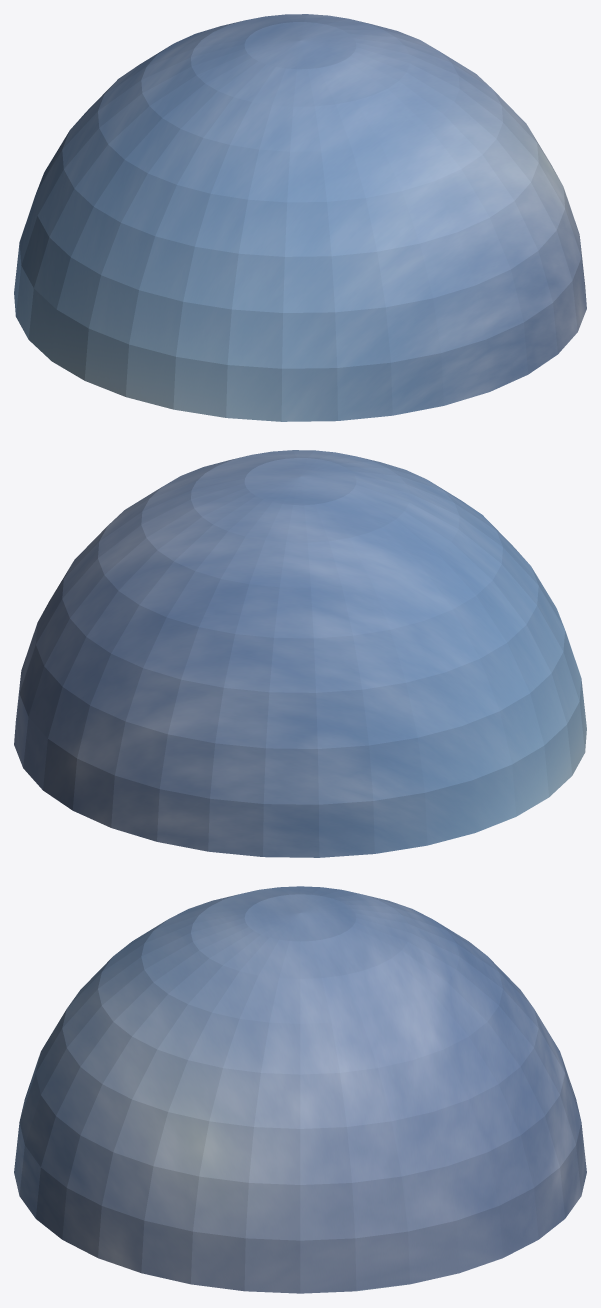
3 renders of one model, top to bottom at view 1: azimuth 30°, elevation 25°; view 2: azimuth 150°, elevation 25°; view 3: azimuth 270°, elevation 25°, orthographic.
Parts seen in each view (by area): view 1: Skybox; view 2: Skybox; view 3: Skybox.
Part boxes in pixels (x1,y1,x2,y2): Skybox: (14,14,586,421); Skybox: (14,450,586,857); Skybox: (14,886,586,1293).
Size of the model in its own units: 60 by 30 by 60.
Materials: 9 (9 with a texture image).
